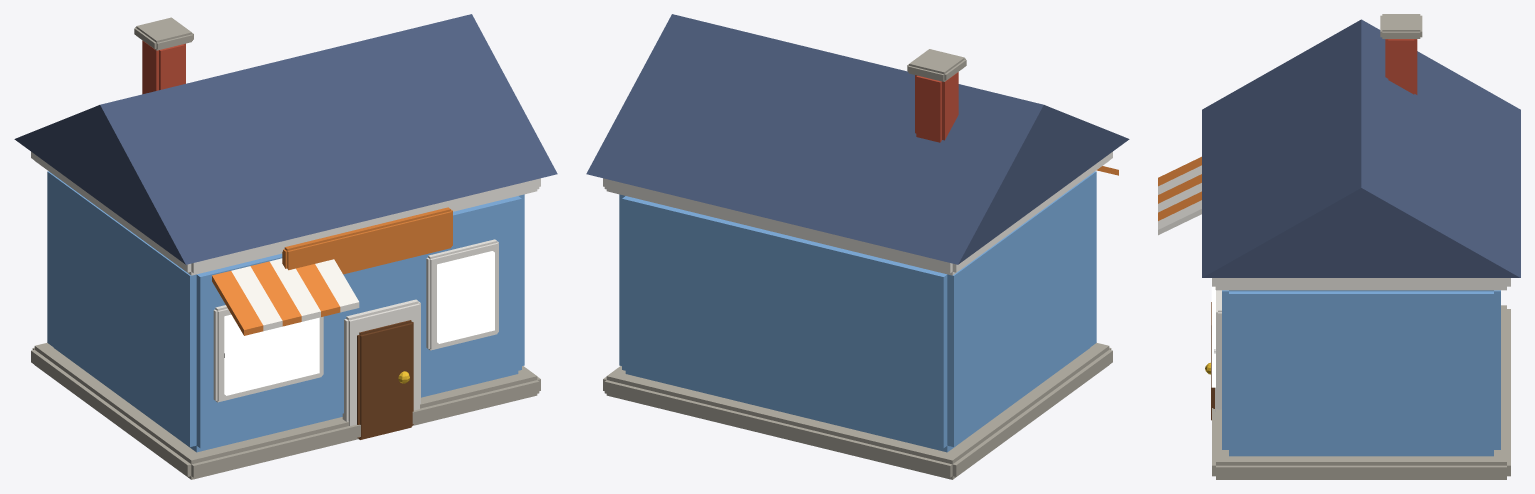
Rendered from workshop.glb.
3 views of the same model, side by side, from view 1: azimuth 30°, elevation 25°; view 2: azimuth 150°, elevation 25°; view 3: azimuth 270°, elevation 25° (orthographic). The views are drawn at different scales.
Visible parts, largest first — view 1: workshop; view 2: workshop; view 3: workshop.
Boxes of the visible parts, x1,y1,x2,y2 form: workshop: [14, 14, 557, 479]; workshop: [586, 14, 1129, 479]; workshop: [1158, 14, 1520, 479].
Size of the model in its own units: 2 by 1.85 by 1.82.
